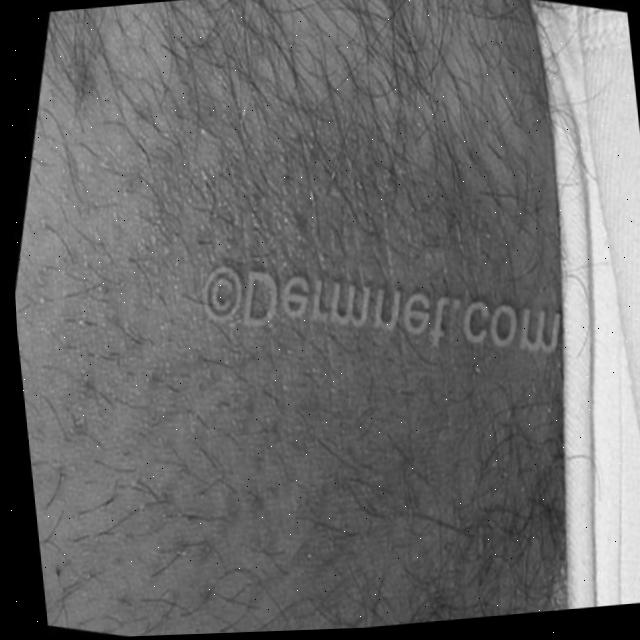Eczema: (115, 123, 511, 442)
